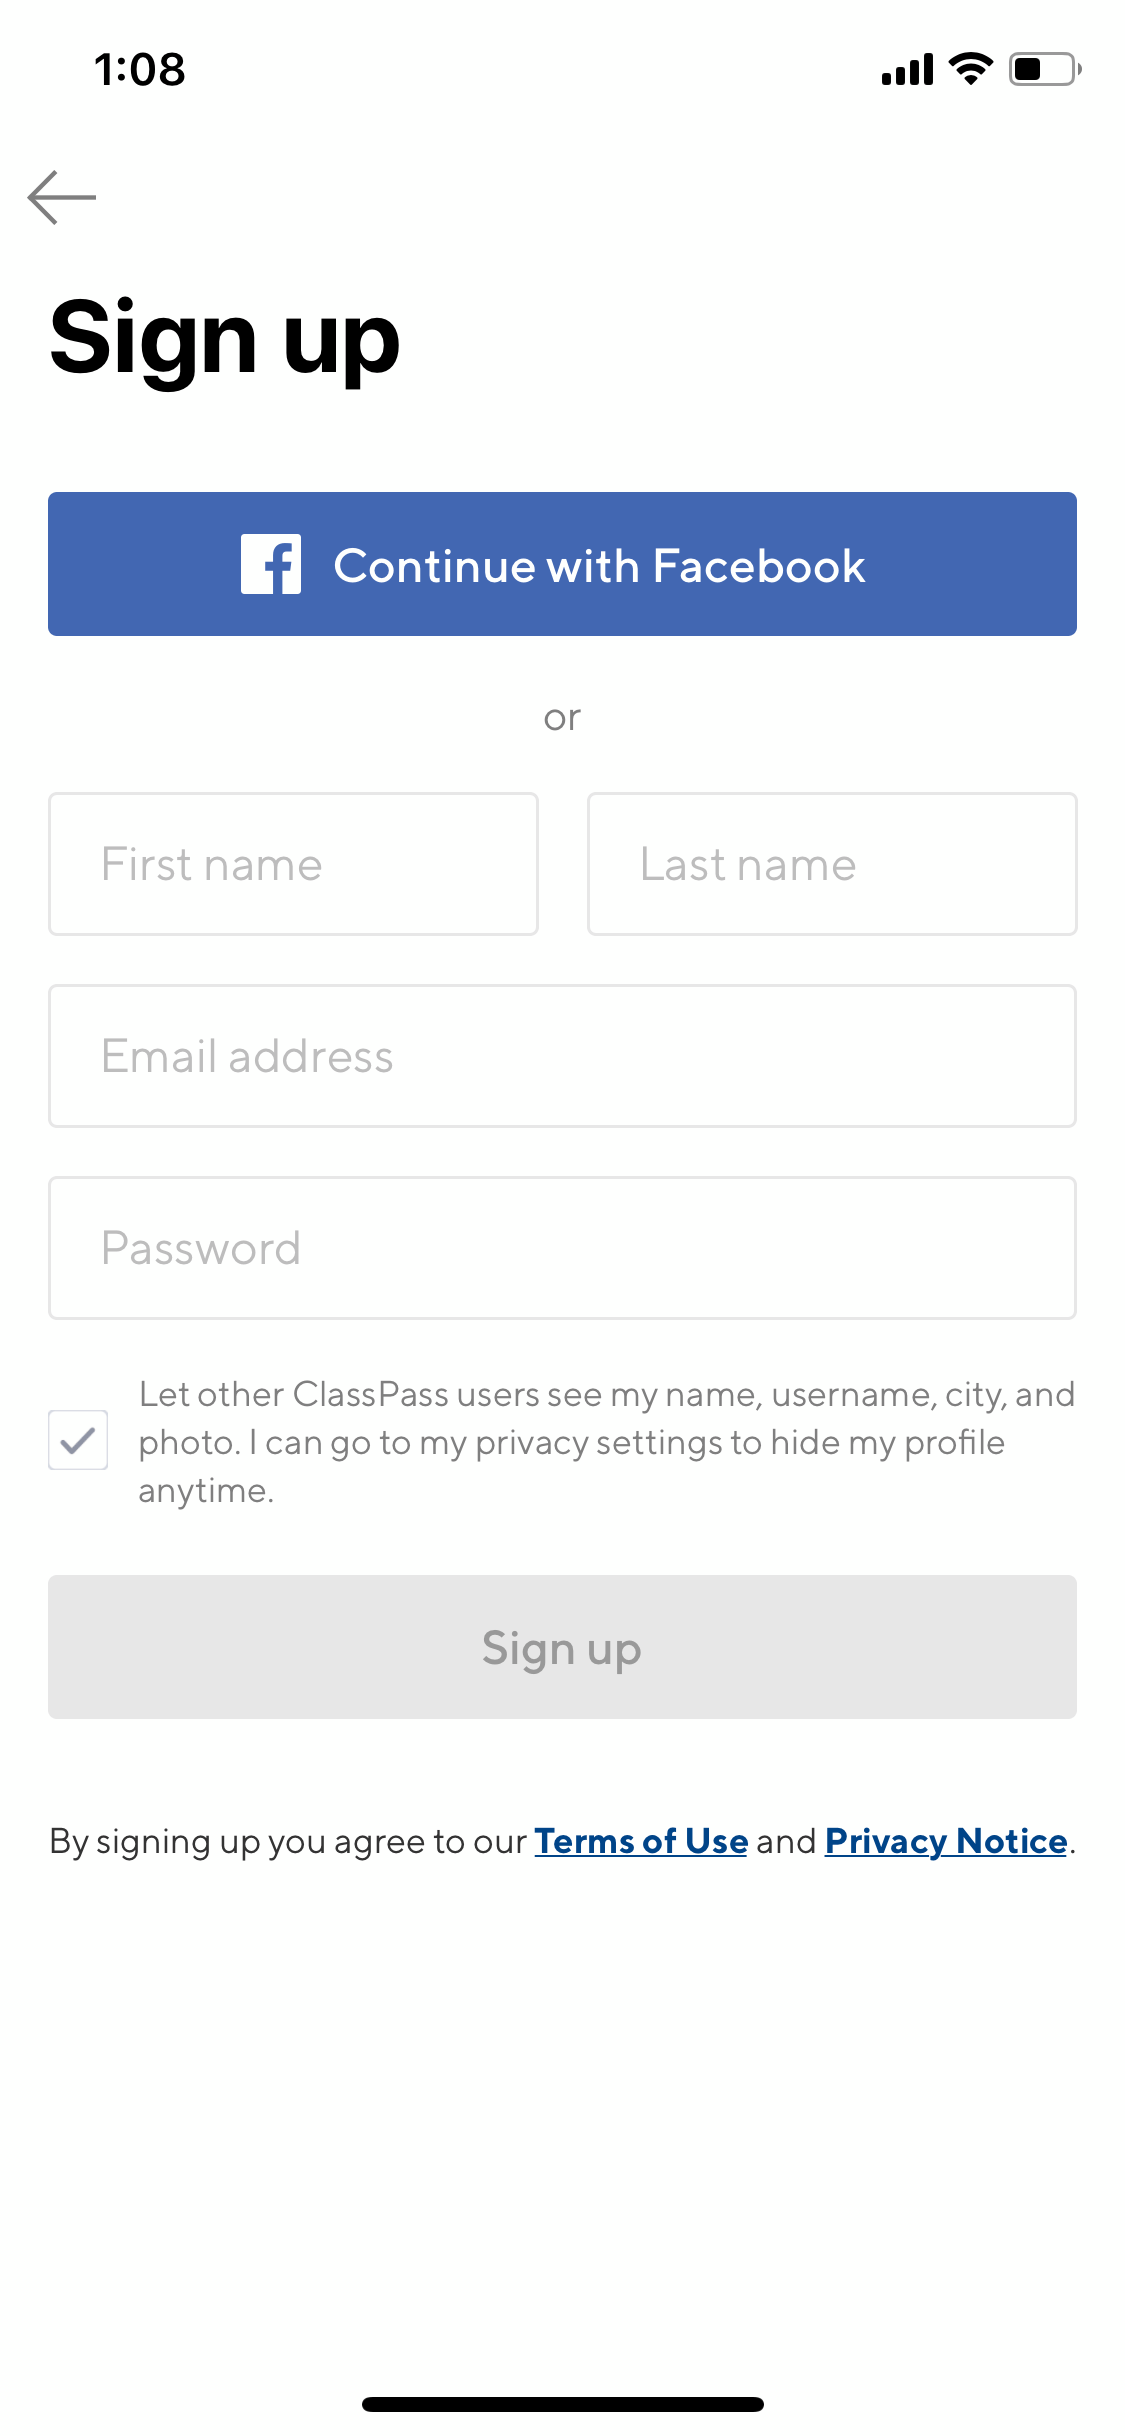Buttons: (36, 1558, 1085, 1735), (36, 475, 1085, 646), (5, 137, 140, 270)
Checkboxes: (33, 1370, 1092, 1533)
Text Fields: (36, 959, 1088, 1143), (37, 1157, 1089, 1335), (562, 775, 1088, 962), (31, 774, 555, 960)
